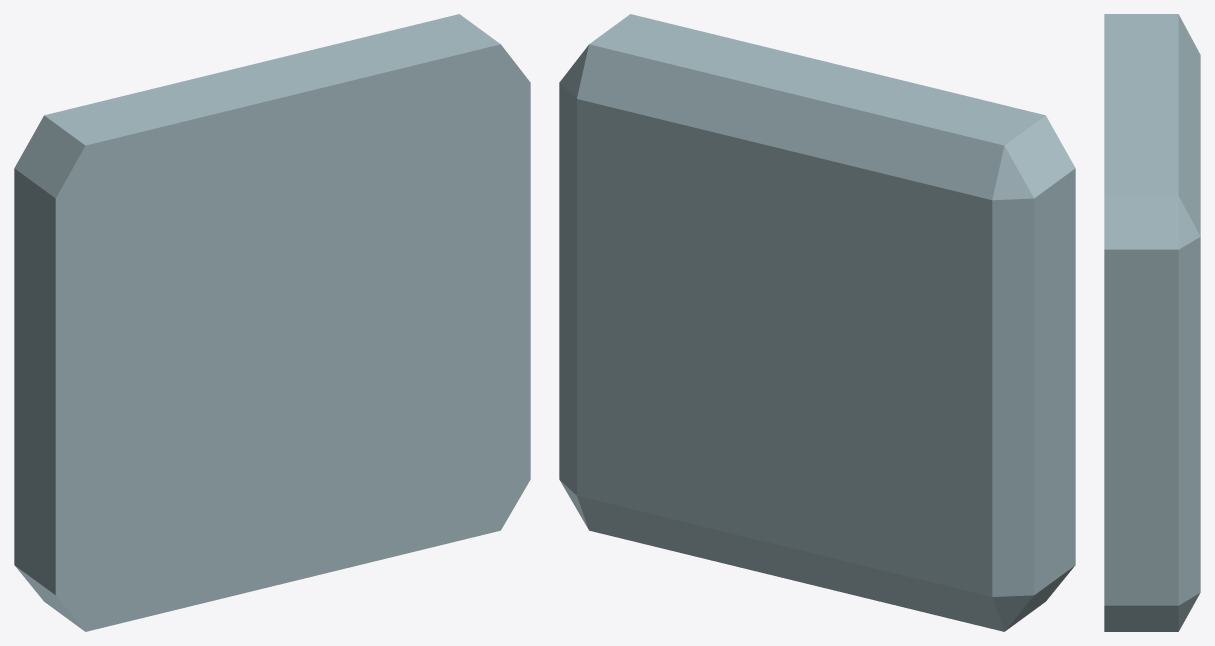
Rendered from de_ice_3.fbx.
3 views of the same model, side by side, from view 1: azimuth 30°, elevation 25°; view 2: azimuth 150°, elevation 25°; view 3: azimuth 270°, elevation 25° (orthographic). The views are drawn at different scales.
Visible parts, largest first — view 1: Cube.319; view 2: Cube.319; view 3: Cube.319.
Boxes of the visible parts, x1=… form: Cube.319: x1=14, y1=14, x2=530, y2=631; Cube.319: x1=559, y1=14, x2=1075, y2=631; Cube.319: x1=1104, y1=14, x2=1200, y2=631.
Size of the model in its own units: 399 by 390 by 78.
